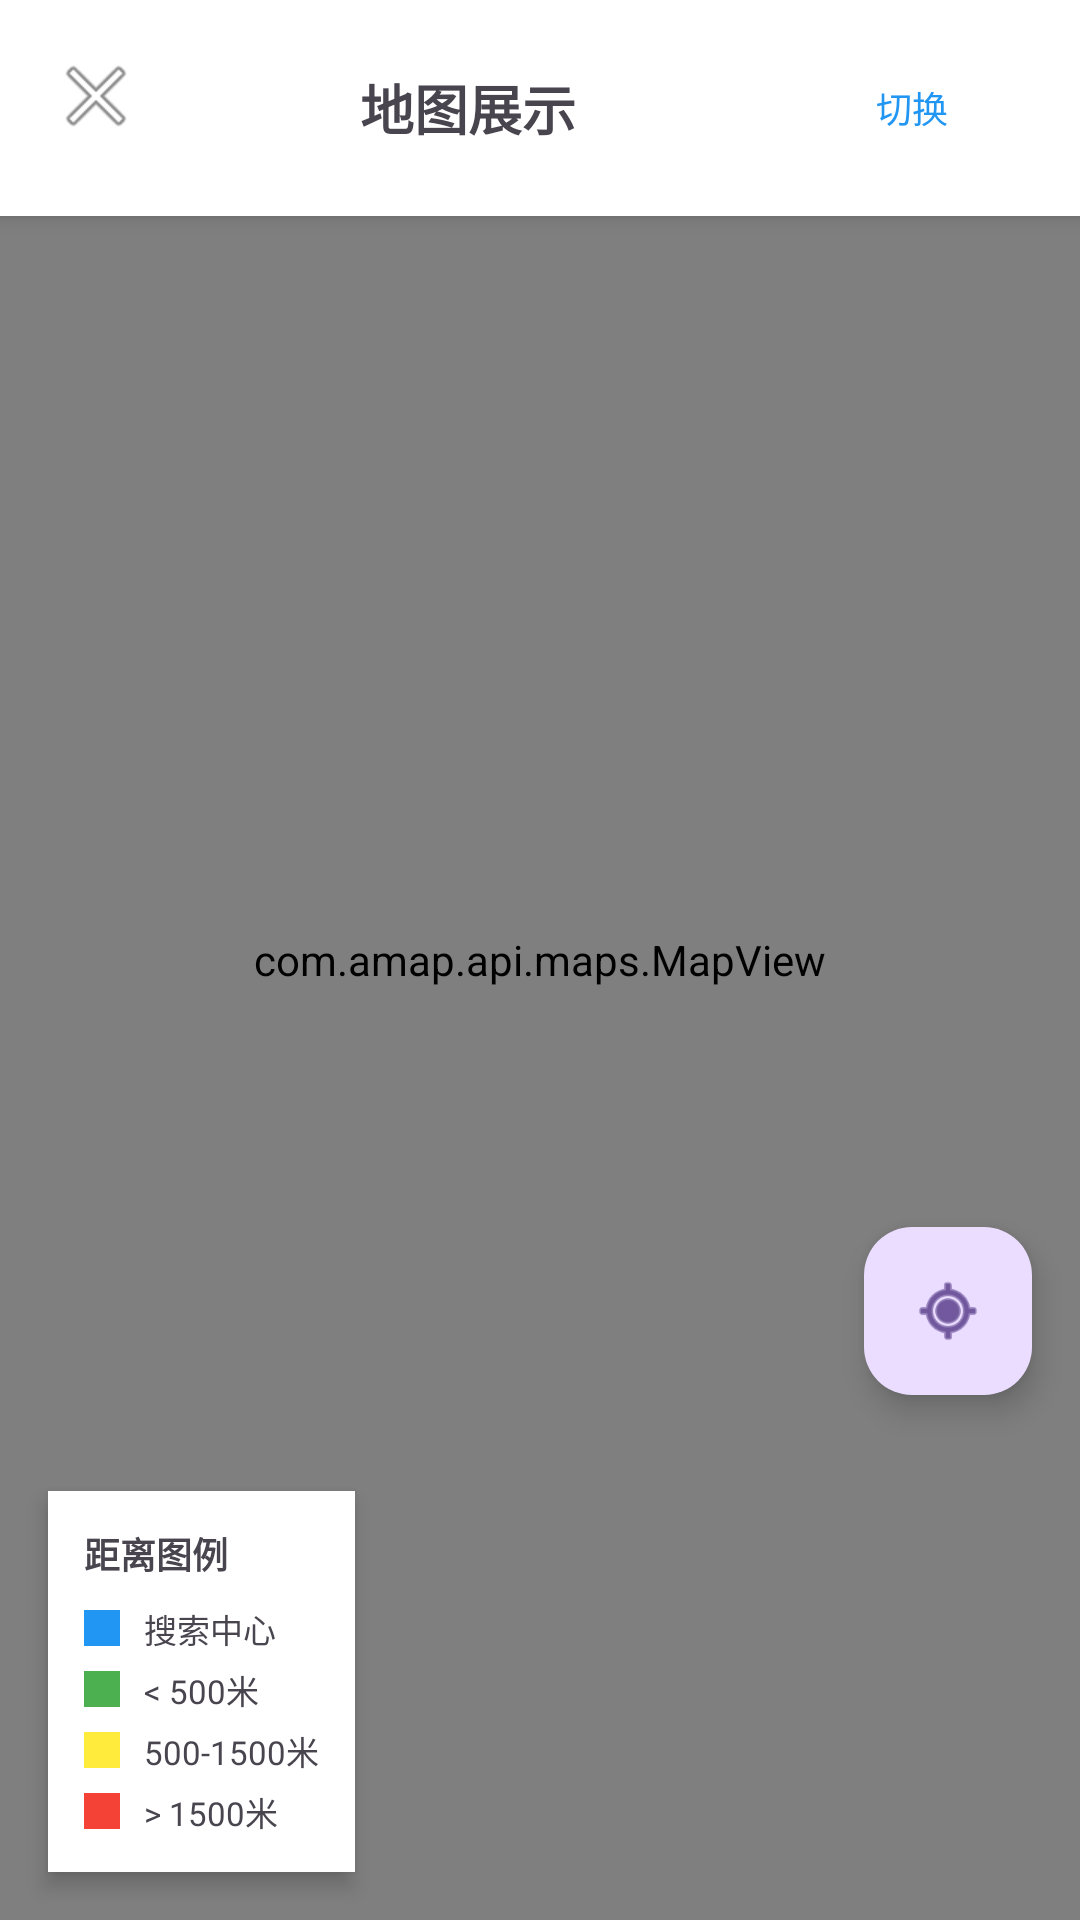

Named icons in this screenshot (1080 × 1920) and their centers, [x,y]:
close clear cancel: [96,96]
mylocation: [948,1311]
